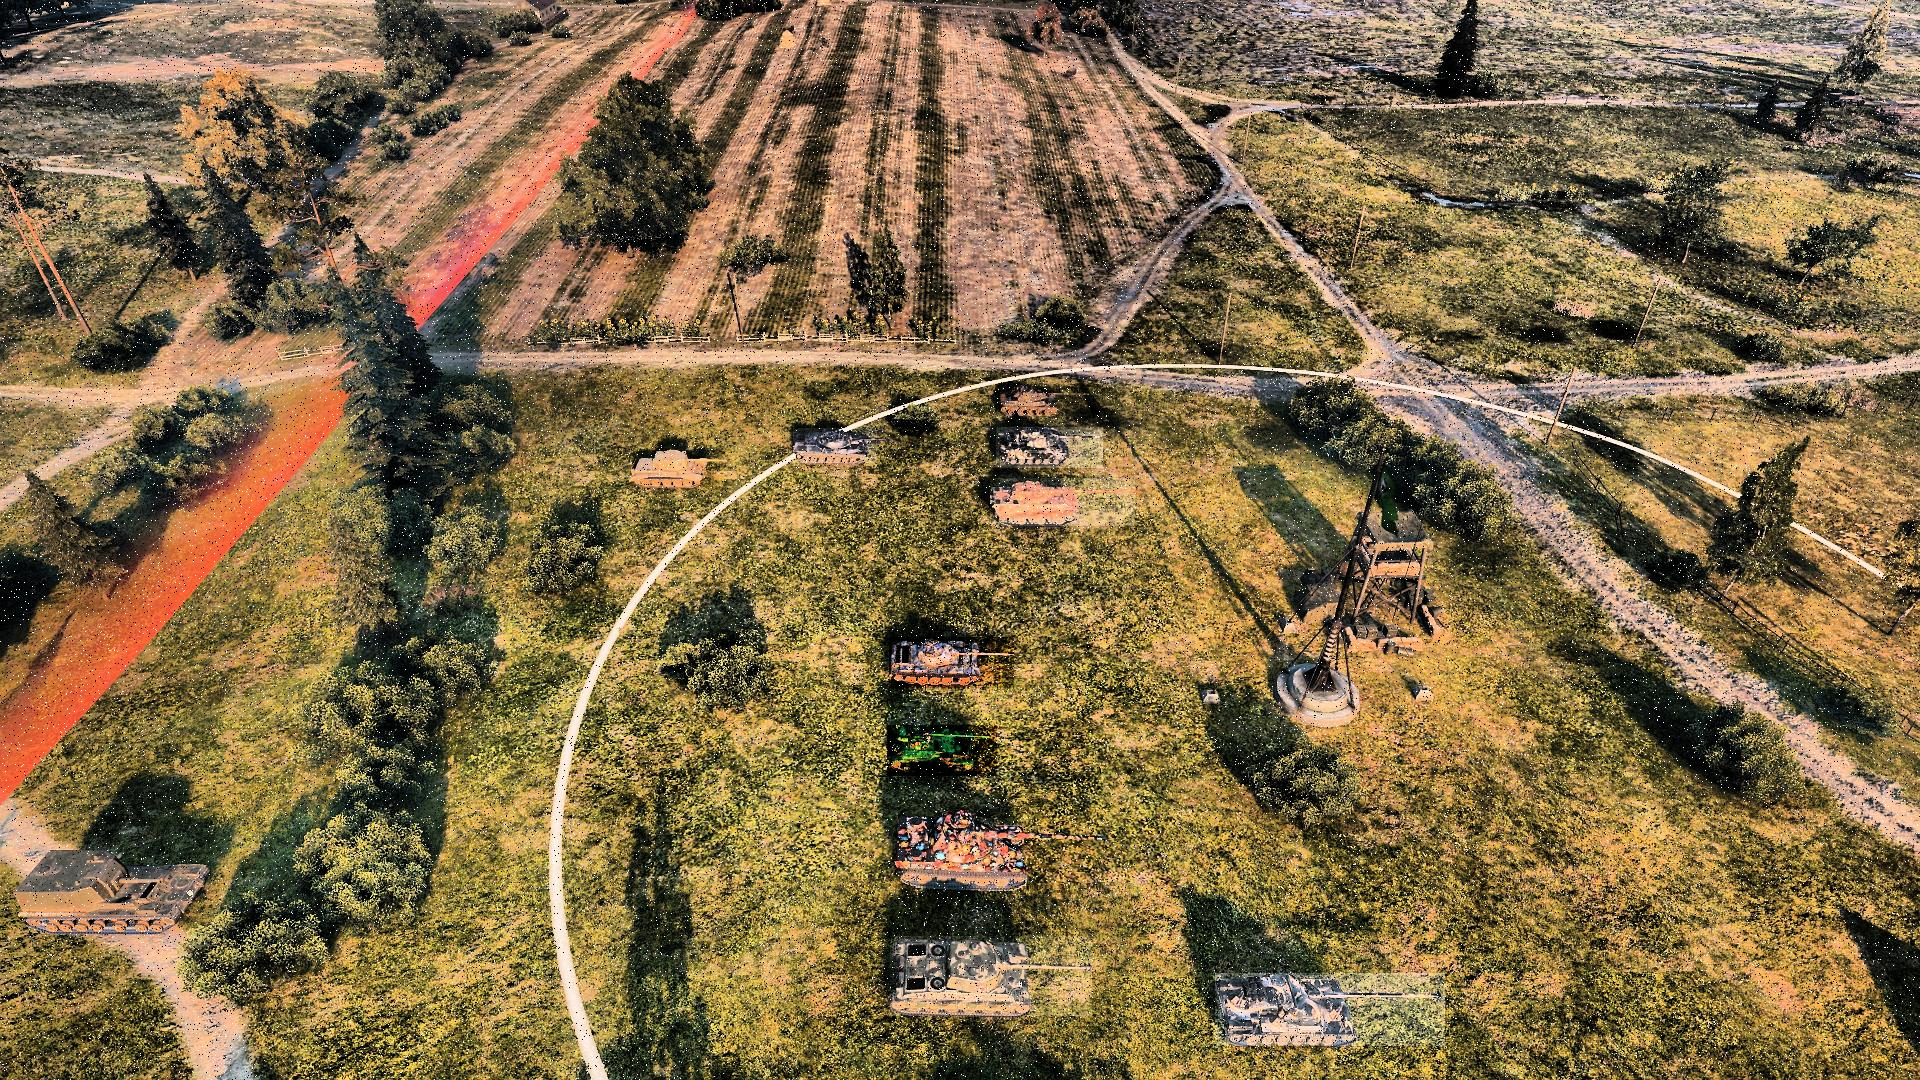military-vehicle: (894, 807, 1105, 887), (1215, 973, 1445, 1046), (890, 936, 1092, 1015), (990, 479, 1135, 527), (889, 638, 1014, 688), (887, 725, 998, 777), (996, 427, 1104, 468), (632, 448, 729, 491), (996, 385, 1100, 414), (794, 427, 878, 463)
